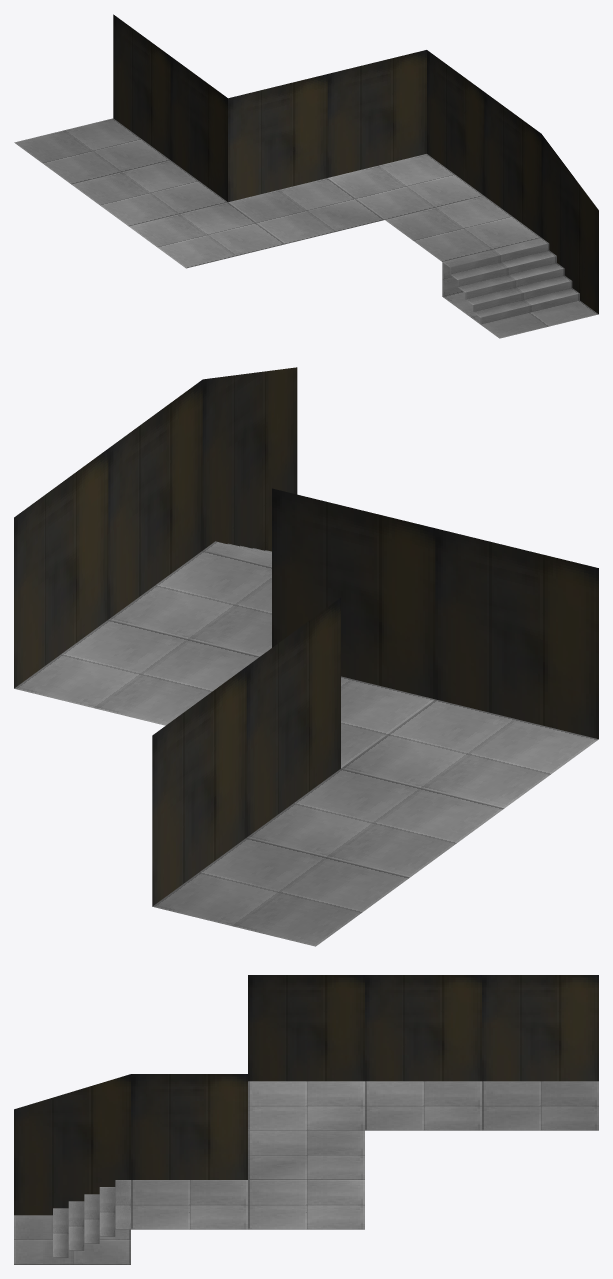
The model's file is connector_l.glb.
3 renders of one model, top to bottom at view 1: azimuth 30°, elevation 25°; view 2: azimuth 150°, elevation 25°; view 3: azimuth 270°, elevation 25°, orthographic. The views are drawn at different scales.
Parts seen in each view (by area): view 1: wall, floor, stair; view 2: wall, floor, stair; view 3: wall, floor, stair.
Part boxes in pixels (x1,y1,x2,y2): wall: (113, 14, 598, 313); floor: (14, 118, 598, 338); stair: (442, 238, 579, 324); wall: (14, 367, 598, 906); floor: (14, 550, 598, 946); stair: (203, 541, 271, 567); wall: (14, 975, 598, 1215); floor: (14, 1081, 598, 1264); stair: (53, 1180, 130, 1257).
Bounding box in the file's own units: 45 × 20 × 75.
4 materials, 4 textured.
